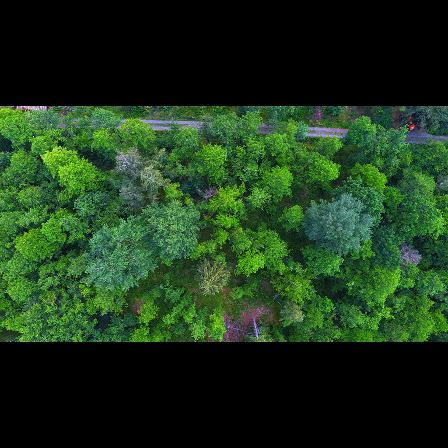Dead: (396, 244, 424, 268), (249, 315, 263, 339), (225, 322, 247, 336)
